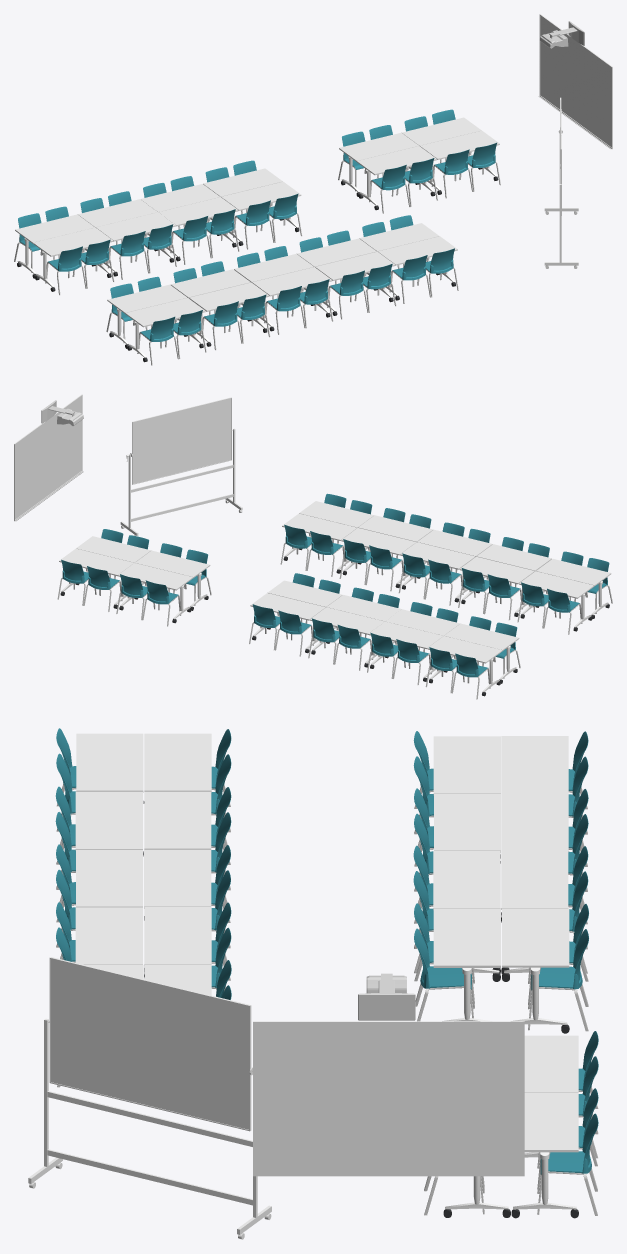
The model's file is SALLE_B1.fbx.
3 renders of one model, top to bottom at view 1: azimuth 30°, elevation 25°; view 2: azimuth 150°, elevation 25°; view 3: azimuth 270°, elevation 25°, orthographic. The views are drawn at different scales.
Parts seen in each view (by area): view 1: bureaux_doubles_B1, chaise_dossier_B1, tableau_B1, chaise_pieds_B1, tableau_roulant_B1, bureaux_double_roues_B1, tableau_projo_B1; view 2: bureaux_doubles_B1, chaise_dossier_B1, tableau_roulant_B1, tableau_B1, chaise_pieds_B1, bureaux_double_roues_B1, tableau_projo_B1; view 3: bureaux_doubles_B1, tableau_B1, tableau_roulant_B1, chaise_dossier_B1, chaise_pieds_B1, tableau_projo_B1.
Part boxes in pixels (x1,y1,x2,y2): bureaux_doubles_B1: [15, 117, 499, 357]; chaise_dossier_B1: [18, 109, 496, 341]; tableau_B1: [538, 14, 612, 149]; chaise_pieds_B1: [14, 153, 500, 365]; tableau_roulant_B1: [544, 97, 578, 268]; bureaux_double_roues_B1: [17, 168, 498, 362]; tableau_projo_B1: [539, 21, 584, 48]; bureaux_doubles_B1: [59, 501, 611, 692]; chaise_dossier_B1: [61, 493, 609, 677]; tableau_roulant_B1: [120, 397, 242, 536]; tableau_B1: [14, 394, 83, 521]; chaise_pieds_B1: [57, 537, 612, 699]; bureaux_double_roues_B1: [60, 548, 609, 696]; tableau_projo_B1: [41, 400, 83, 425]; bureaux_doubles_B1: [75, 733, 578, 1209]; tableau_B1: [253, 1021, 524, 1176]; tableau_roulant_B1: [28, 957, 271, 1239]; chaise_dossier_B1: [55, 728, 598, 1174]; chaise_pieds_B1: [56, 784, 598, 1215]; tableau_projo_B1: [358, 973, 415, 1020].
Bounding box in the file's own units: 972 × 270 × 495.
